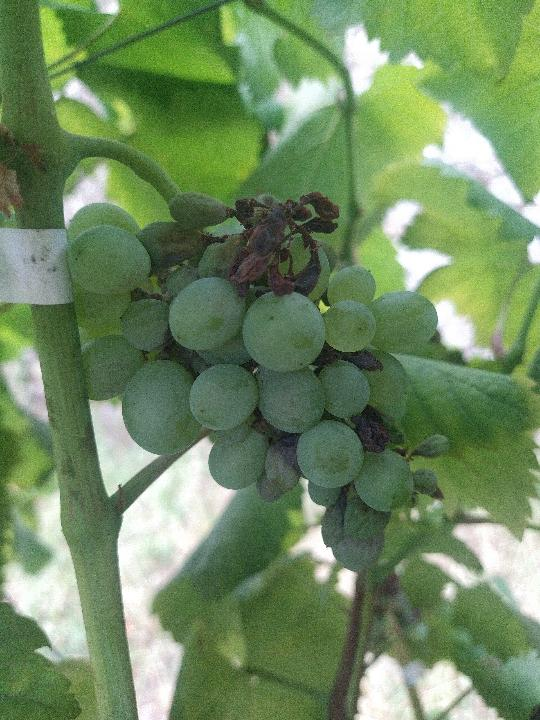grape: (64, 188, 454, 579)
